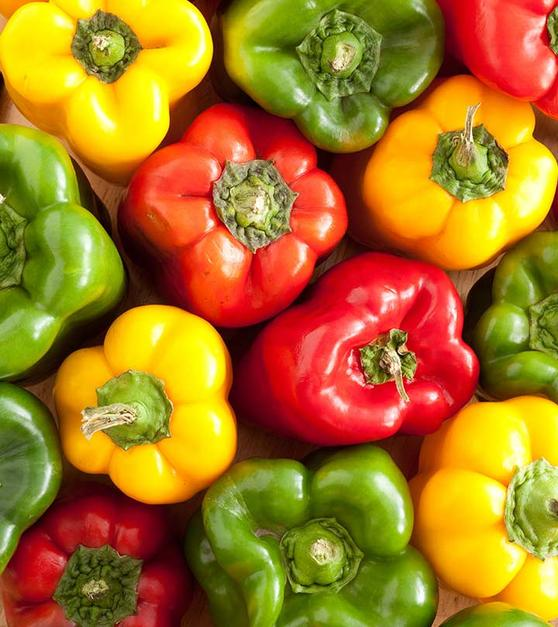pepper: (244, 252, 481, 437)
